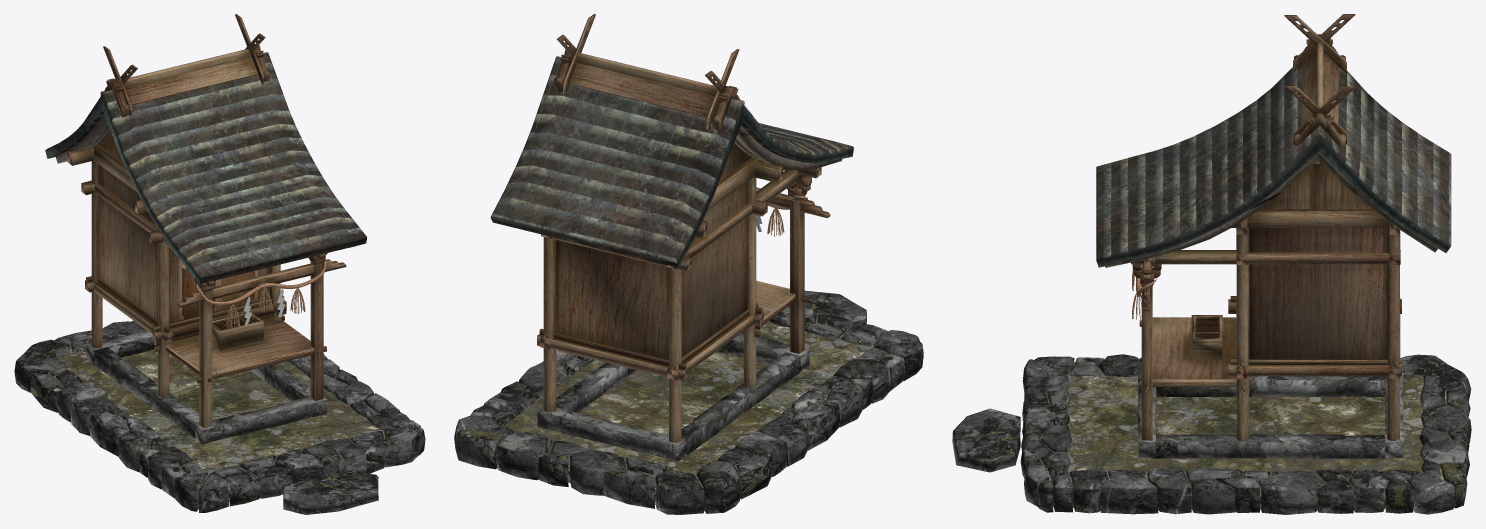
The picture shows the model from 3 angles, left to right: view 1: azimuth 30°, elevation 25°; view 2: azimuth 150°, elevation 25°; view 3: azimuth 270°, elevation 25°; orthographic projection. The views are drawn at different scales.
Visible parts, largest first — view 1: Massya.Shape; view 2: Massya.Shape; view 3: Massya.Shape.
Part boxes in pixels (left/top/right/bottom): Massya.Shape: left=14, top=14, right=425, bottom=514; Massya.Shape: left=454, top=14, right=923, bottom=514; Massya.Shape: left=952, top=14, right=1471, bottom=514.
Bounding box in the file's own units: 2.95 × 4 × 4.74.
Materials: 8 (8 with a texture image).
